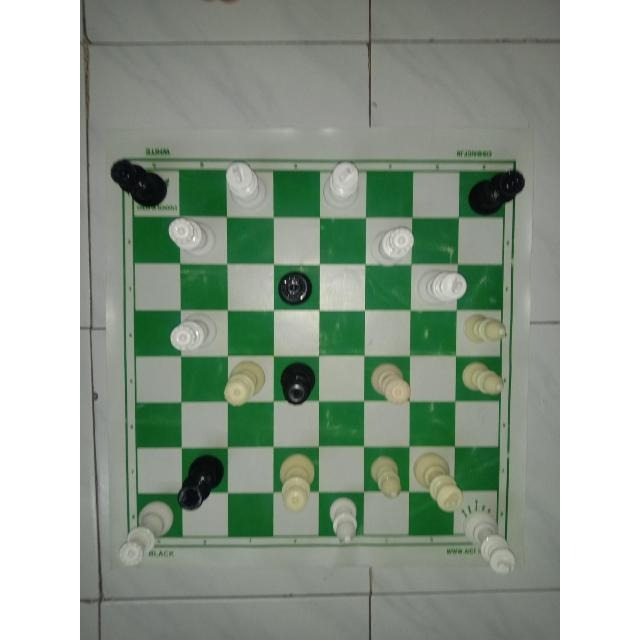black-king: (180, 453, 226, 509)
black-queen: (106, 158, 170, 209), (466, 168, 524, 219), (277, 359, 323, 407), (277, 264, 315, 302)
white-bishop: (462, 310, 514, 349), (327, 496, 360, 548), (370, 455, 406, 499), (462, 361, 504, 397)
white-king: (461, 511, 516, 577), (411, 452, 462, 514), (221, 162, 273, 212), (321, 159, 363, 211), (415, 269, 469, 305)
white-queen: (116, 498, 177, 568), (158, 309, 223, 358), (277, 446, 319, 514), (164, 213, 221, 260), (361, 357, 413, 407), (220, 358, 268, 410), (368, 224, 418, 272)
